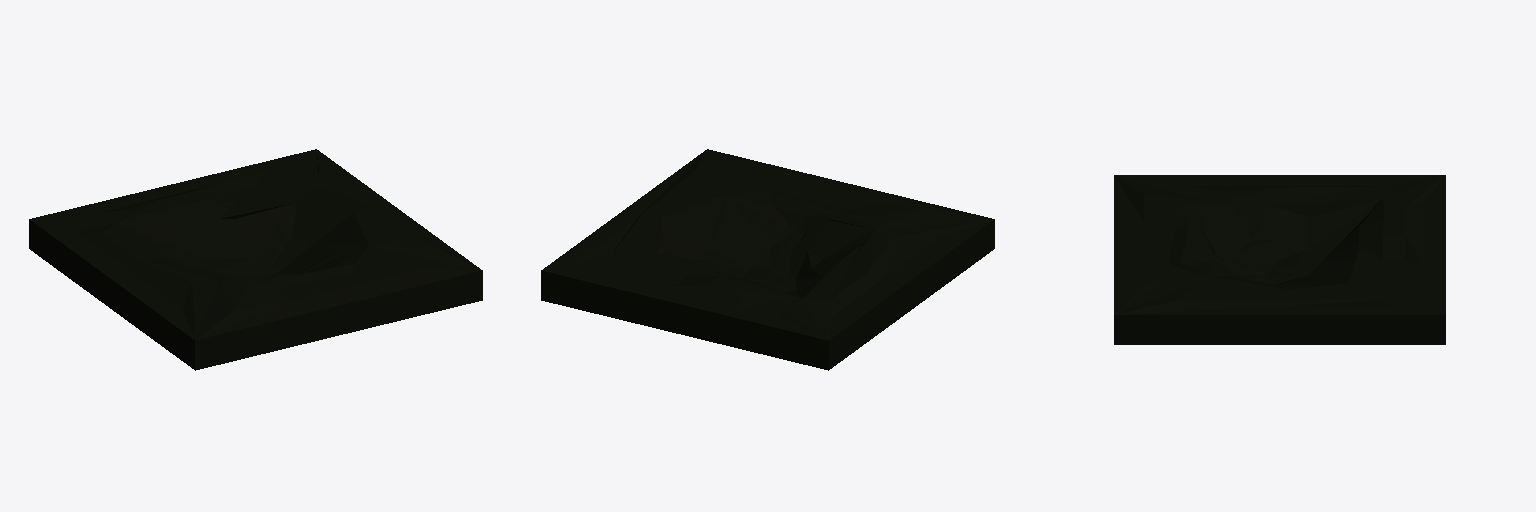
Rendered from Puddle.obj.
The picture shows the model from 3 angles: view 1: azimuth 30°, elevation 25°; view 2: azimuth 150°, elevation 25°; view 3: azimuth 270°, elevation 25°; orthographic projection.
Parts seen in each view (by area): view 1: Cube; view 2: Cube; view 3: Cube.
Boxes of the visible parts, x1=… form: Cube: x1=29, y1=149, x2=482, y2=370; Cube: x1=541, y1=149, x2=994, y2=370; Cube: x1=1114, y1=175, x2=1445, y2=344.
Size of the model in its own units: 2 by 0.2513 by 2.